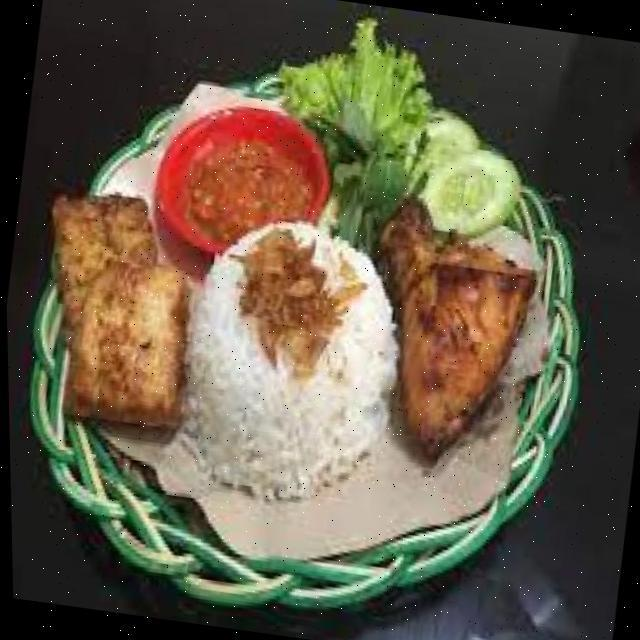ayam goreng: (352, 196, 556, 475)
nasi: (160, 209, 410, 511)
sambal: (183, 133, 320, 245)
tahu goreng: (54, 259, 199, 424), (37, 180, 157, 346)
